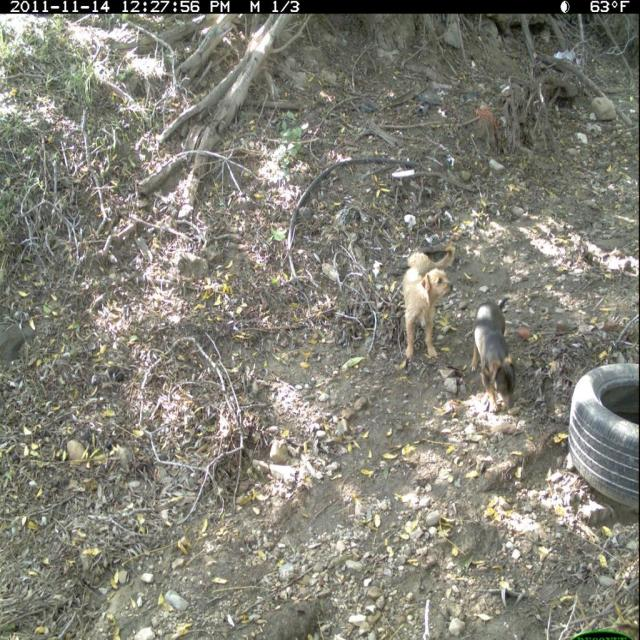dog: (396, 240, 458, 368), (467, 291, 526, 422)
